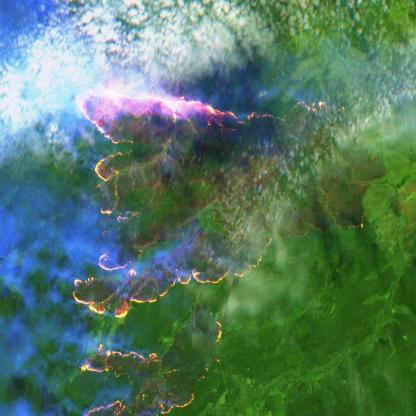fire: (69, 77, 291, 318), (77, 335, 197, 416)
